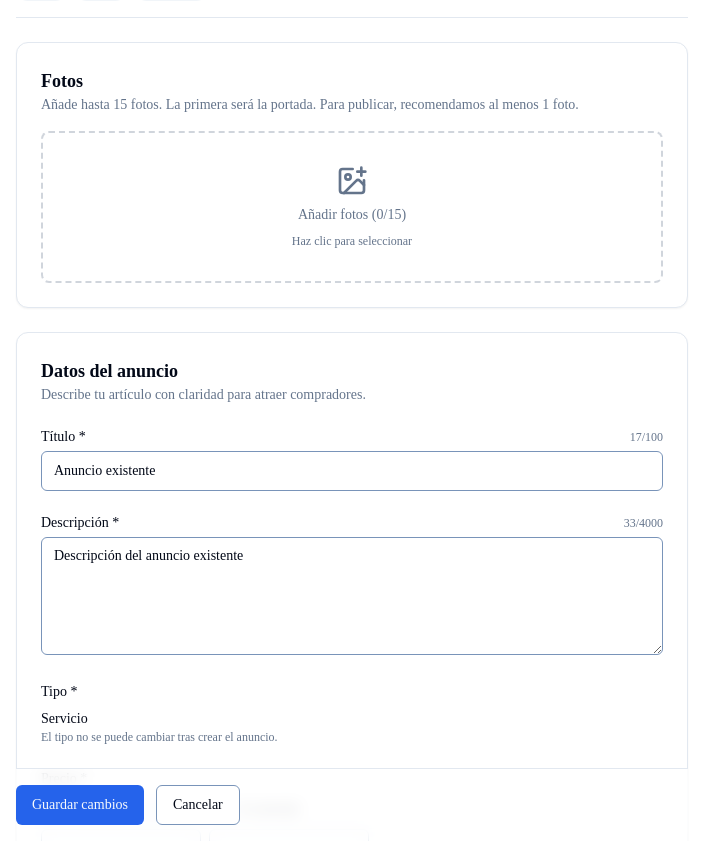
Test case: UXV.5 (A4) — cambiar un campo ya no cuesta cinco pantallas › la validación de CADA sección se preserva y bloquea el guardado
Note: Regla que vivía en el paso «Datos» del wizard.
Clear the field with id "title": (352, 471) [41,451,663,491]
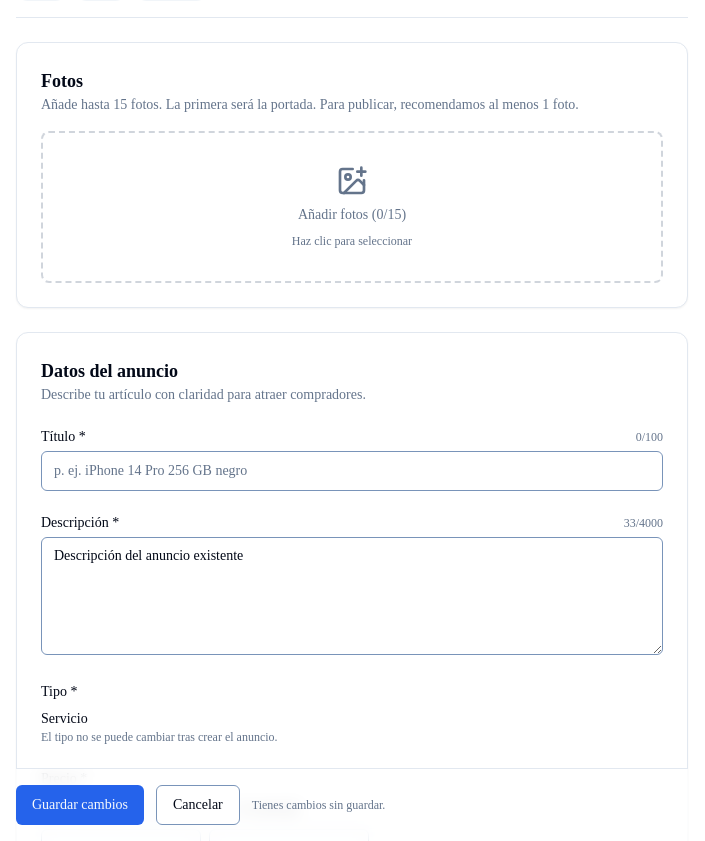
Click the button with test id "guardar-cambios": (80, 805) [16,785,144,825]
(page scrolled)
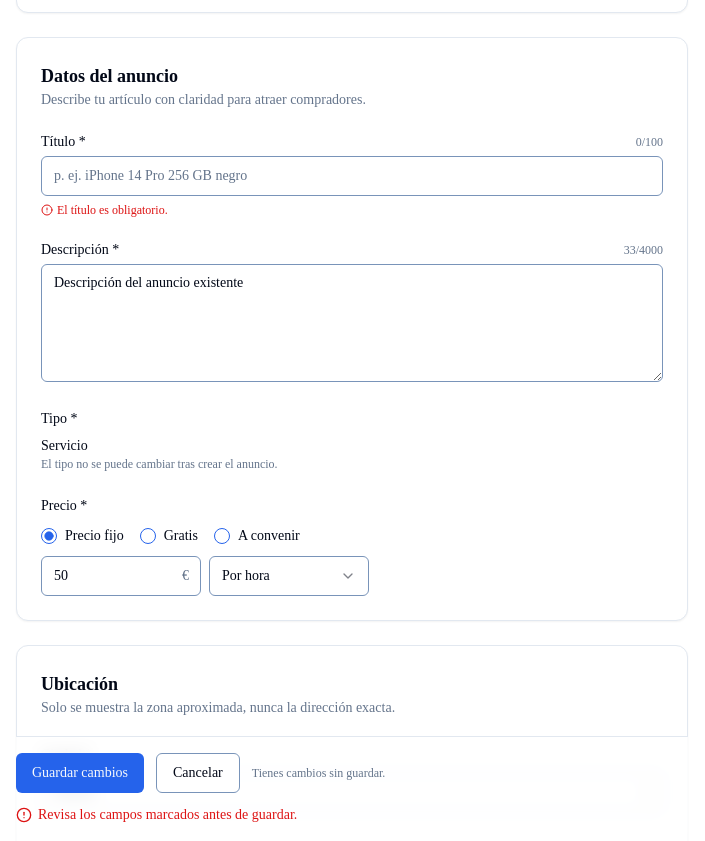
Expected: the text "El título es obligatorio." is shown, [41,203,168,217]
